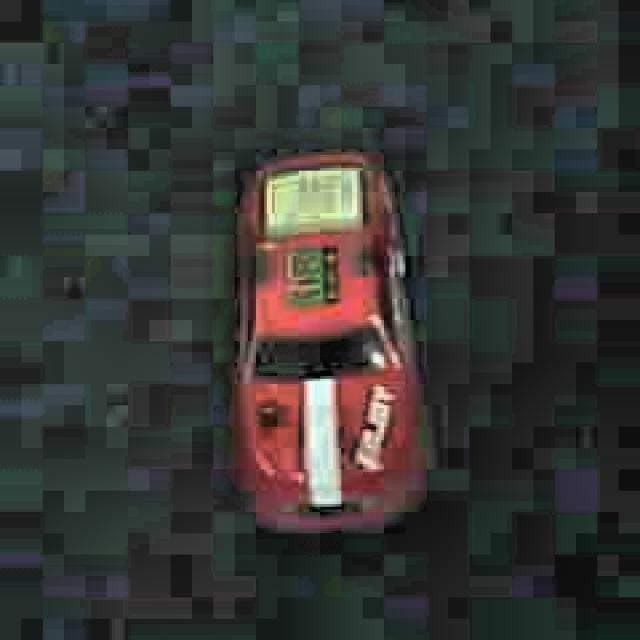car: (207, 142, 443, 539)
